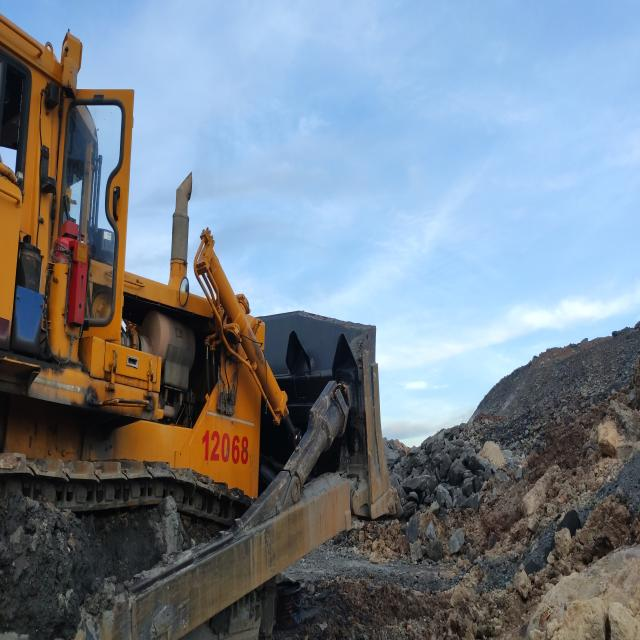buldozerpayloadergrader: (0, 13, 396, 638)
